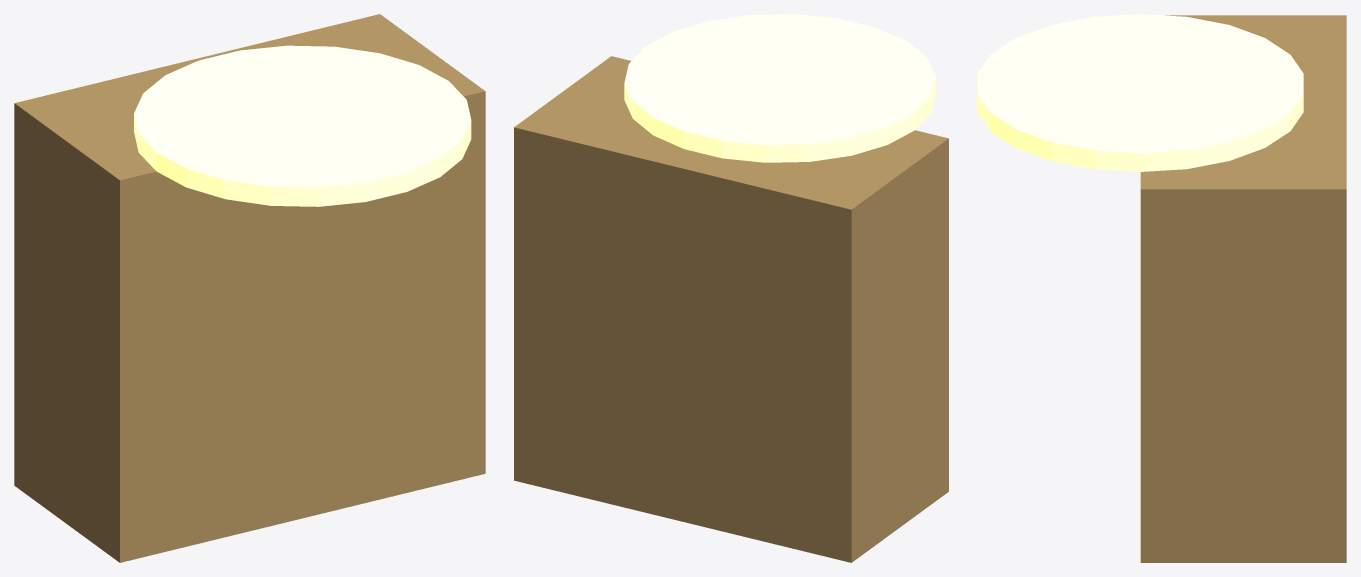
The model's file is TimedPulse_VerticalSlab.glb.
The picture shows the model from 3 angles, left to right: view 1: azimuth 30°, elevation 25°; view 2: azimuth 150°, elevation 25°; view 3: azimuth 270°, elevation 25°; orthographic projection. The views are drawn at different scales.
Visible parts, largest first — view 1: TimedPulse_VerticalSlab_body, glow_disc.008; view 2: TimedPulse_VerticalSlab_body, glow_disc.008; view 3: TimedPulse_VerticalSlab_body, glow_disc.008.
Part boxes in pixels (bbox=[...]): TimedPulse_VerticalSlab_body: bbox=[14, 14, 485, 562]; glow_disc.008: bbox=[134, 45, 471, 206]; TimedPulse_VerticalSlab_body: bbox=[514, 56, 948, 562]; glow_disc.008: bbox=[624, 14, 935, 162]; TimedPulse_VerticalSlab_body: bbox=[1140, 15, 1346, 562]; glow_disc.008: bbox=[977, 14, 1303, 171].
Bounding box in the file's own units: 1 × 1.05 × 0.8959.
